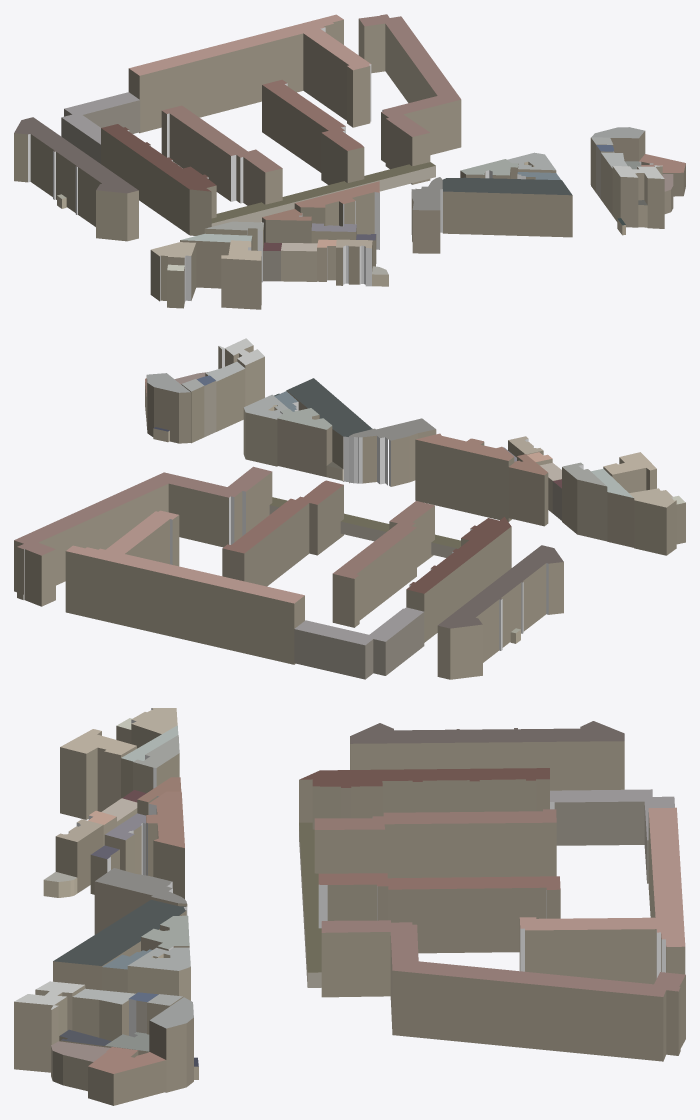
3 views of the same model, one above another, from view 1: azimuth 30°, elevation 25°; view 2: azimuth 150°, elevation 25°; view 3: azimuth 270°, elevation 25° (orthographic). The views are drawn at different scales.
Parts seen in each view (by area): view 1: tuile; view 2: tuile; view 3: tuile.
Part boxes in pixels (x1=…): tuile: x1=14, y1=14, x2=685, y2=309; tuile: x1=14, y1=338, x2=685, y2=679; tuile: x1=14, y1=708, x2=685, y2=1105.
Bounding box in the file's own units: 263 × 29.84 × 221.
